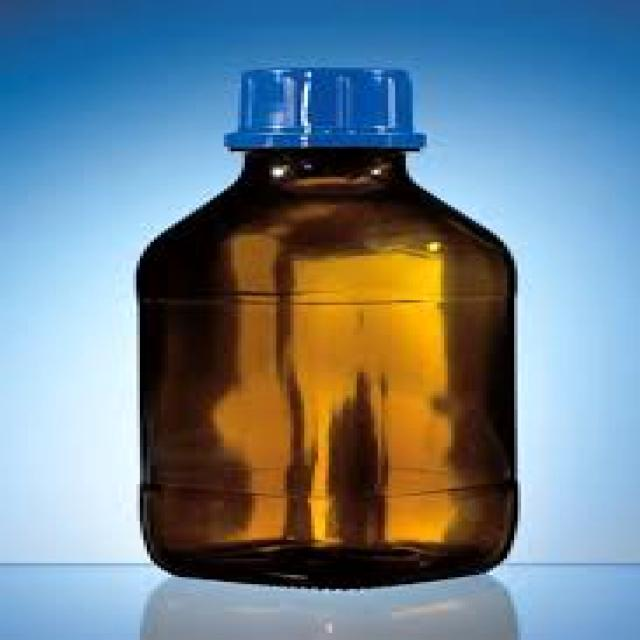Glass: (128, 60, 526, 592)
Plastic: (217, 62, 433, 158)
